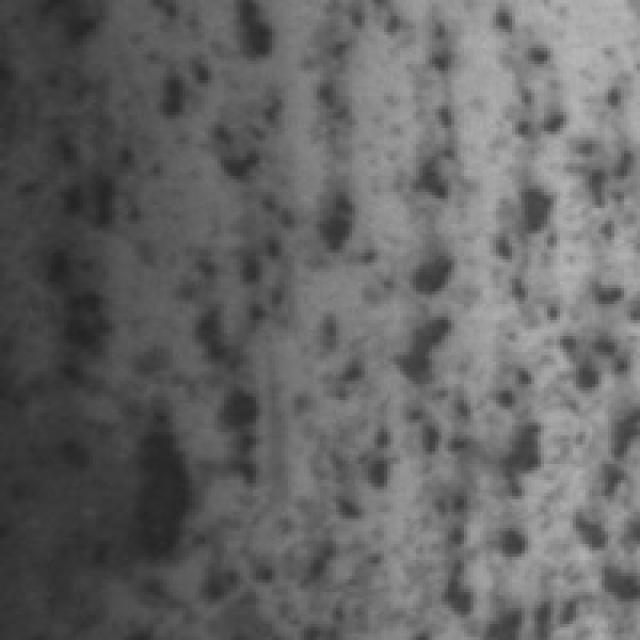pitted_surface: (42, 3, 640, 611)
